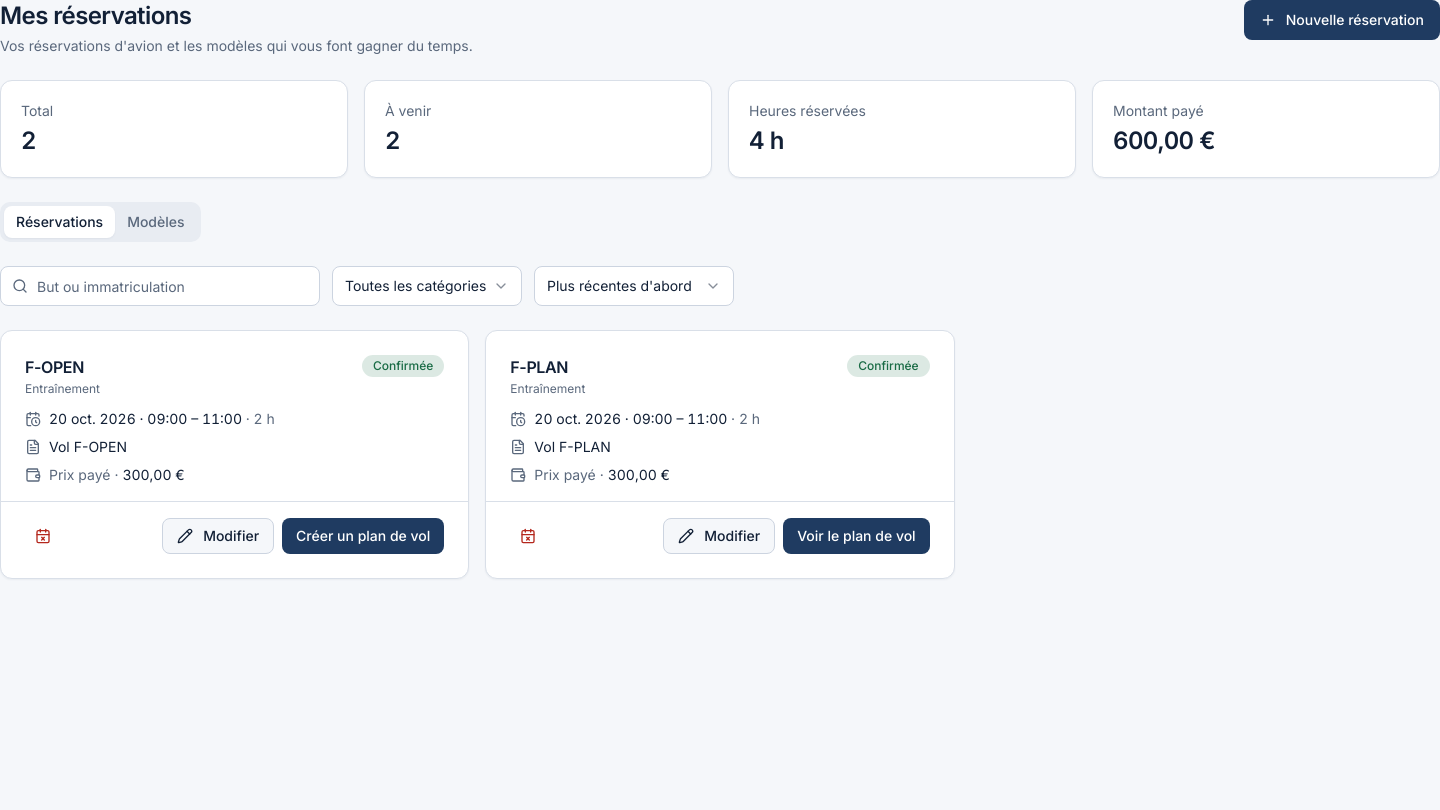
Test: Mes réservations — annulation › demande confirmation en nommant la réservation, puis annule et rafraîchit la liste
Check: the text "F-OPEN" is shown, box left=25, top=357, right=84, bottom=377
Click the button named "Annuler la réservation de F-OPEN": (43, 536) left=25, top=518, right=61, bottom=554
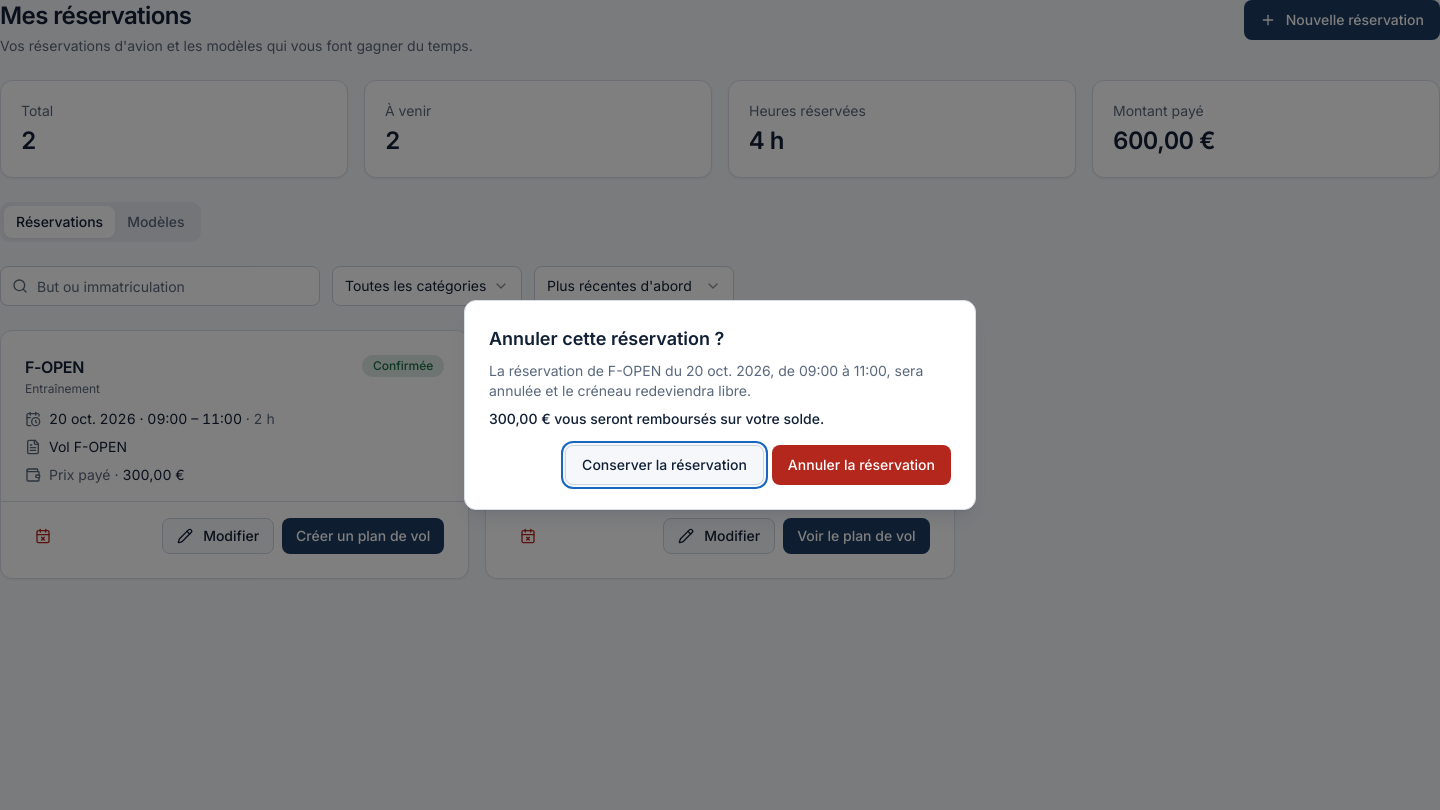
Check: the heading "Annuler cette réservation ?" is shown, box left=489, top=328, right=724, bottom=349
Check: the text "La réservation de F-OPEN du 20 oct. 2026, de 09:00 à 11:00, sera annulée" is shown, box left=489, top=362, right=923, bottom=399
Check: the text "300,00 € vous seront remboursés sur votre solde." is shown, box left=489, top=410, right=824, bottom=427
Click the button "Annuler la réservation": (861, 465) left=772, top=445, right=951, bottom=485
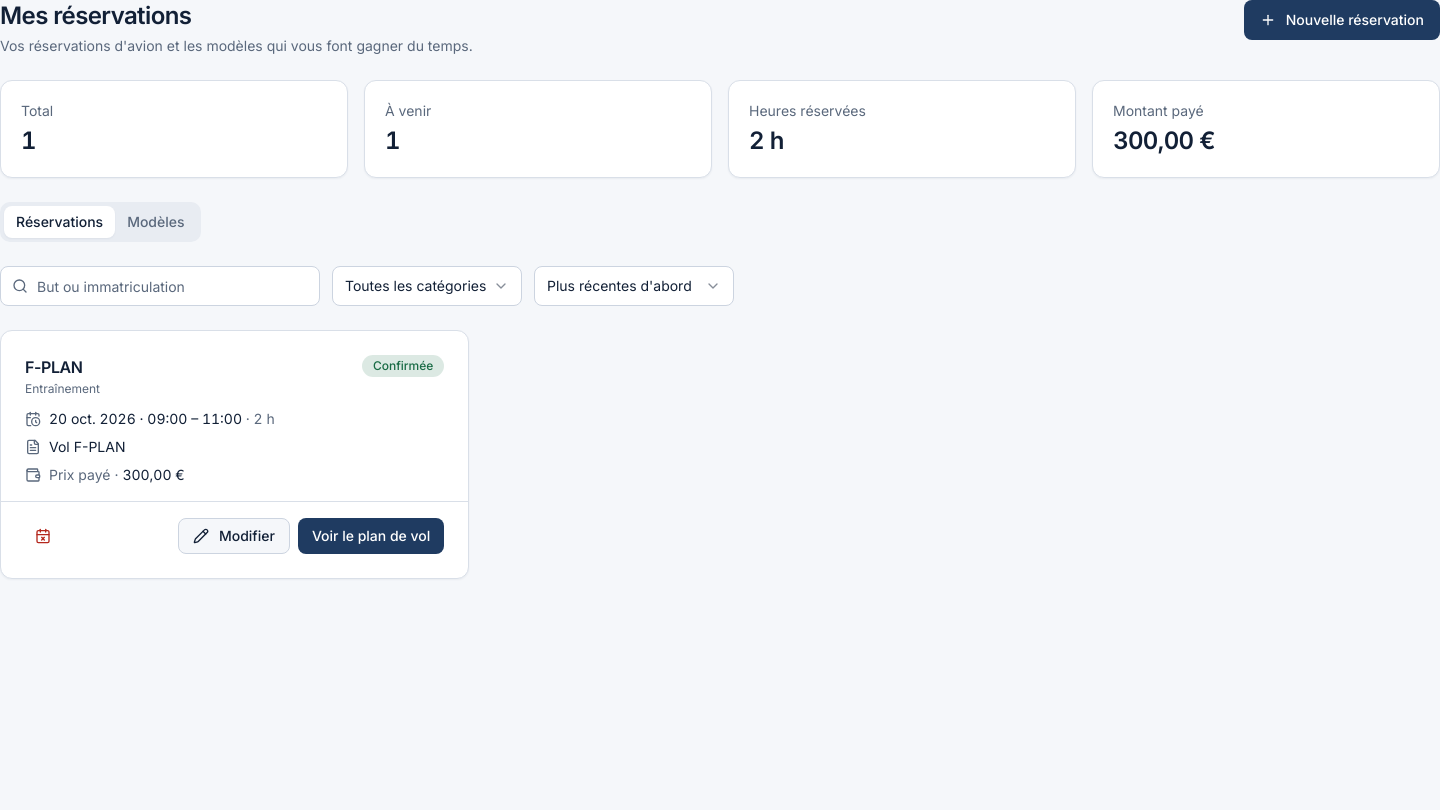
Check: the text "F-PLAN" is shown, box left=25, top=357, right=83, bottom=377
Check: the text "F-OPEN" is gone
Check: the dialog is gone
